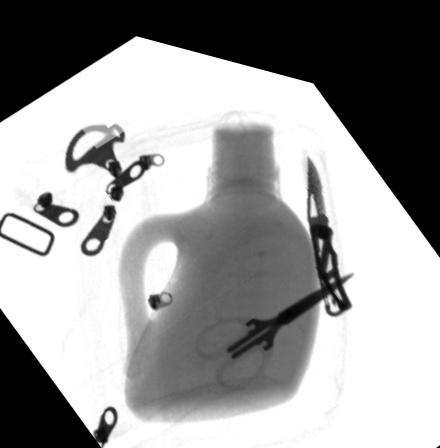Knife: (305, 139, 351, 299)
Scissors: (190, 252, 354, 380)
